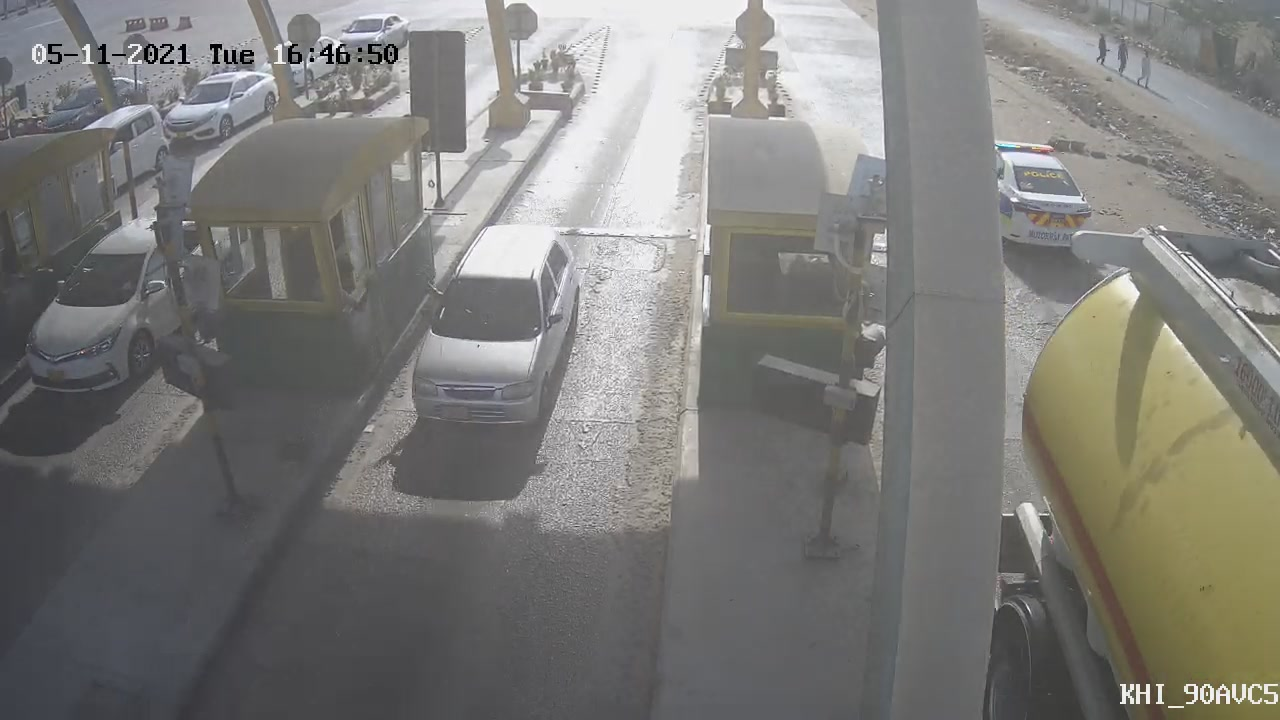F1: (391, 214, 601, 448)
